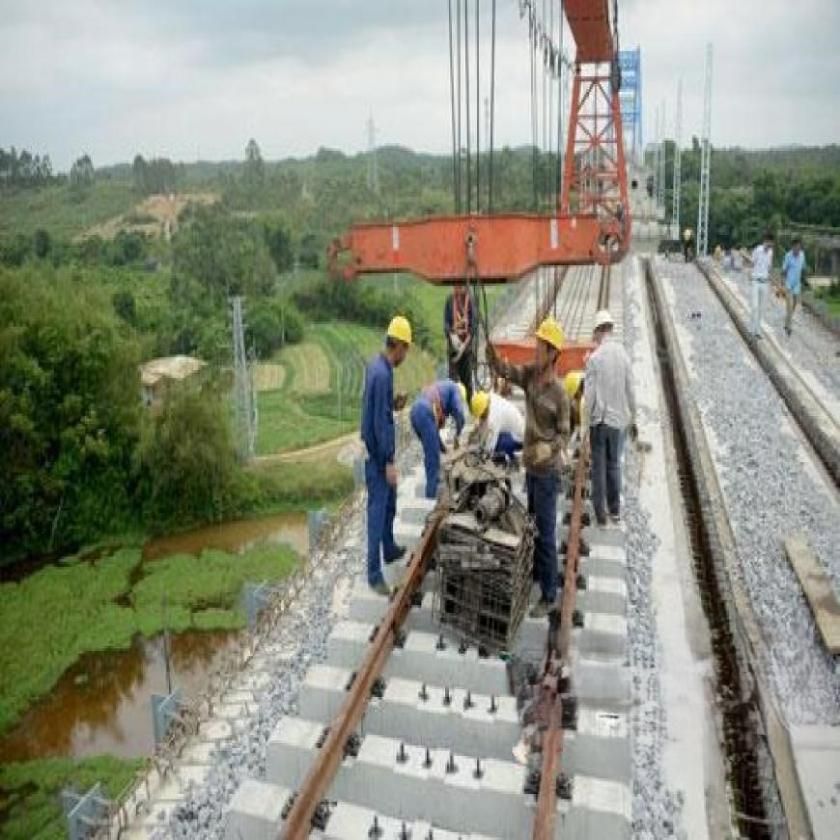Con_casco: (531, 312, 566, 373), (377, 310, 414, 363)
